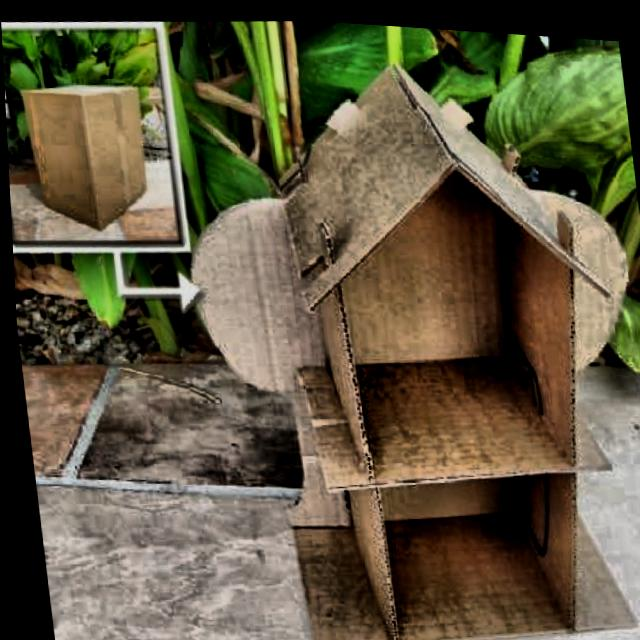Cardbox: (171, 27, 640, 640)
